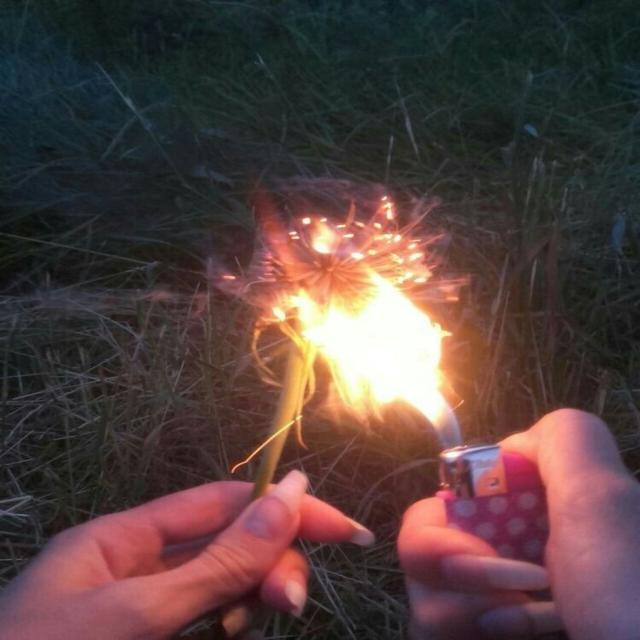fire: (296, 273, 460, 449)
